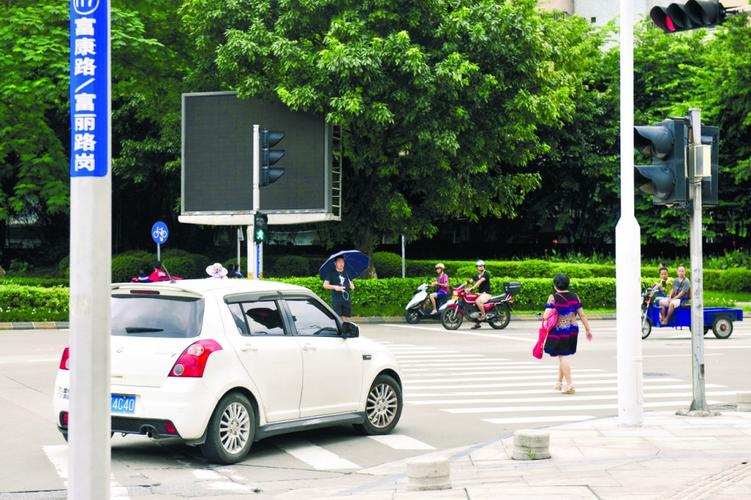car: (51, 278, 406, 464)
motorcycle: (438, 283, 519, 331), (404, 283, 444, 324)
person: (534, 273, 593, 395), (321, 261, 356, 322), (462, 259, 492, 322), (662, 266, 691, 323), (427, 263, 450, 316), (148, 261, 166, 284), (206, 262, 229, 279)
sign: (150, 220, 169, 244)
traffic light: (633, 118, 688, 205), (649, 0, 727, 34), (259, 129, 284, 187), (252, 211, 267, 247)
truck: (635, 288, 742, 338)
